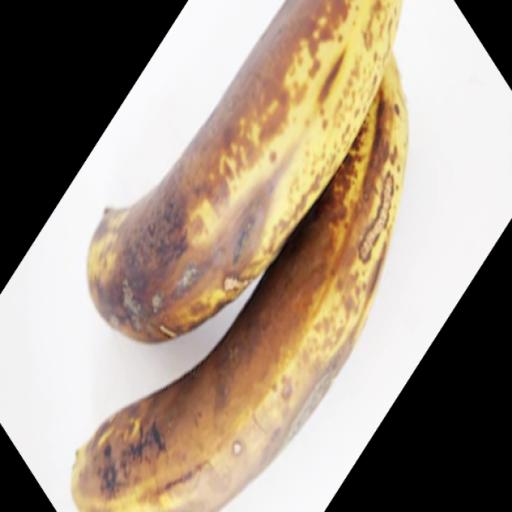banana-overripe: (96, 0, 384, 512)
